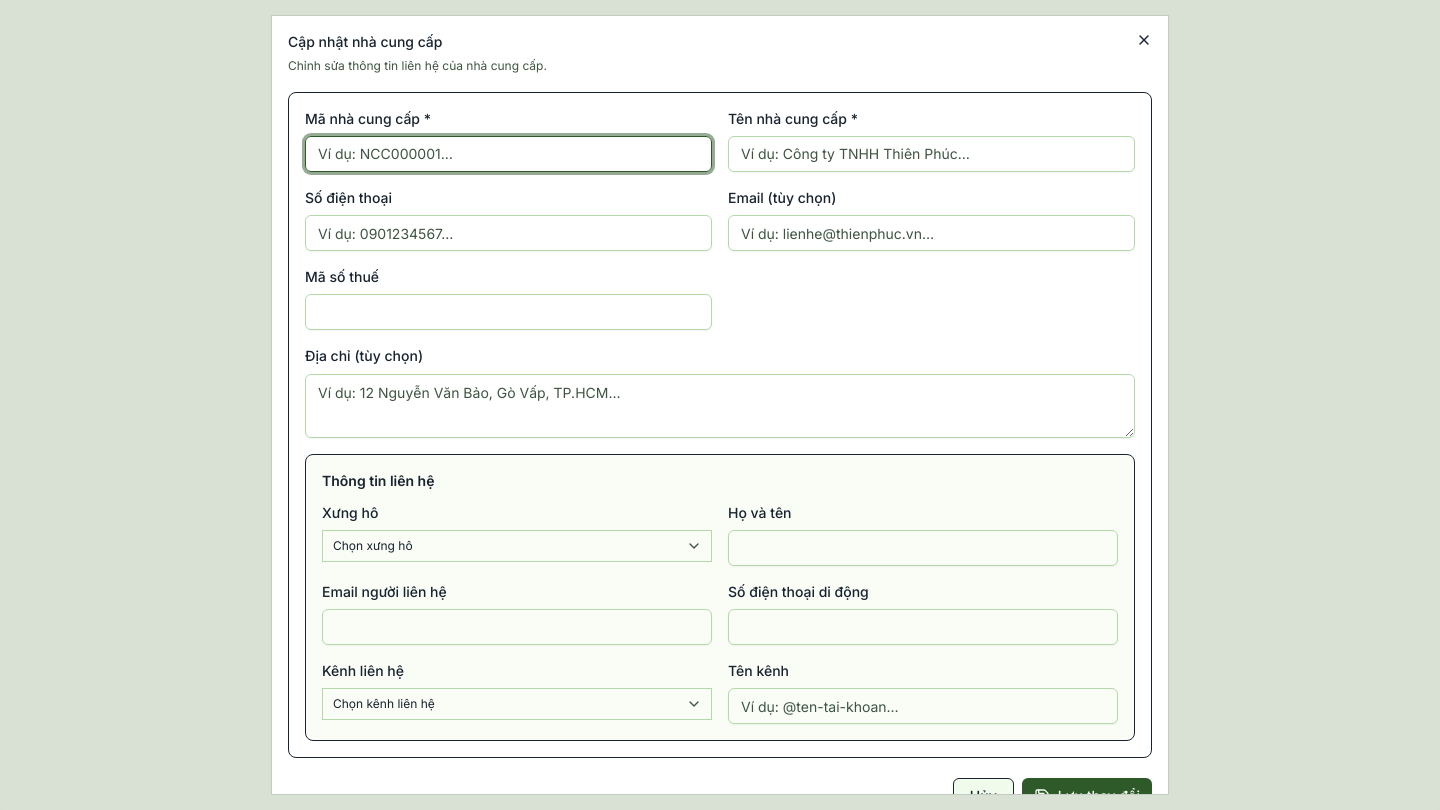
Test case: renders the Vietnamese inline code error instead of blocking submit with native validation
The width and height of the screenshot is (1440, 810).
Type "NCC000001" into the field labelled "Mã nhà cung cấp *" at coordinates (508, 154), box [305,136,712,172]
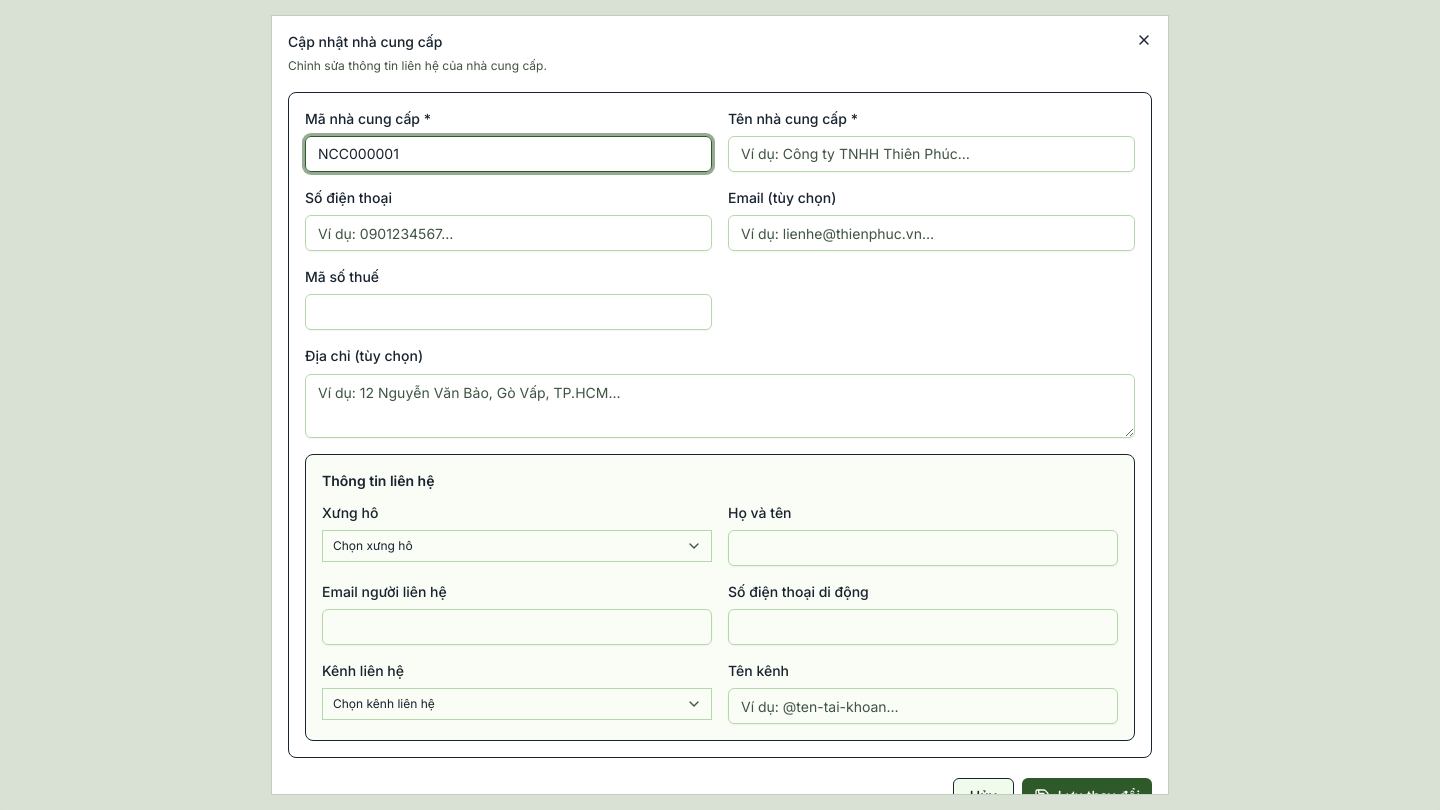
Type "Nhà cung cấp QA" into the field labelled "Tên nhà cung cấp *" at coordinates (932, 154), box [728,136,1135,172]
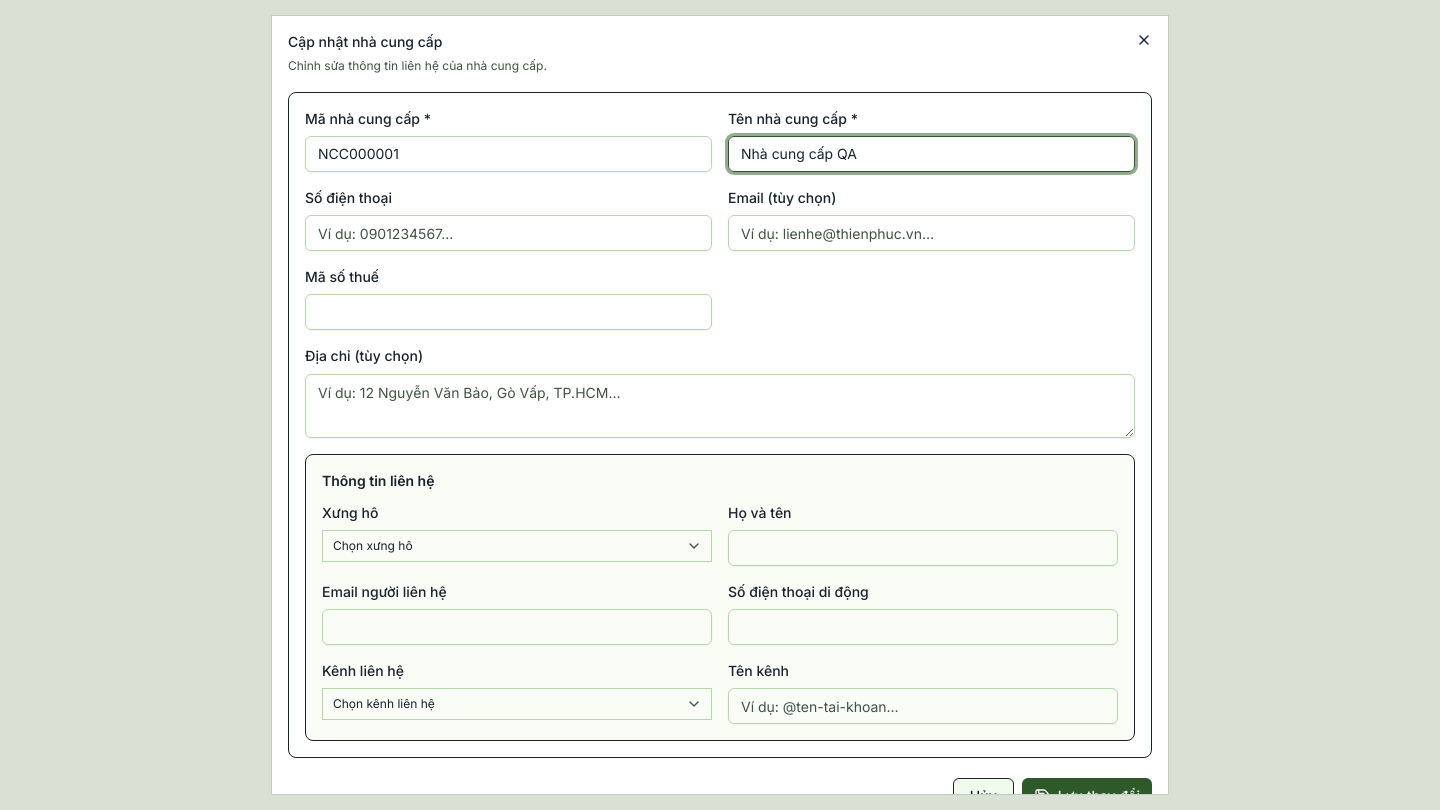
Clear the field labelled "Mã nhà cung cấp *" at coordinates (508, 154), box [305,136,712,172]
(page scrolled)
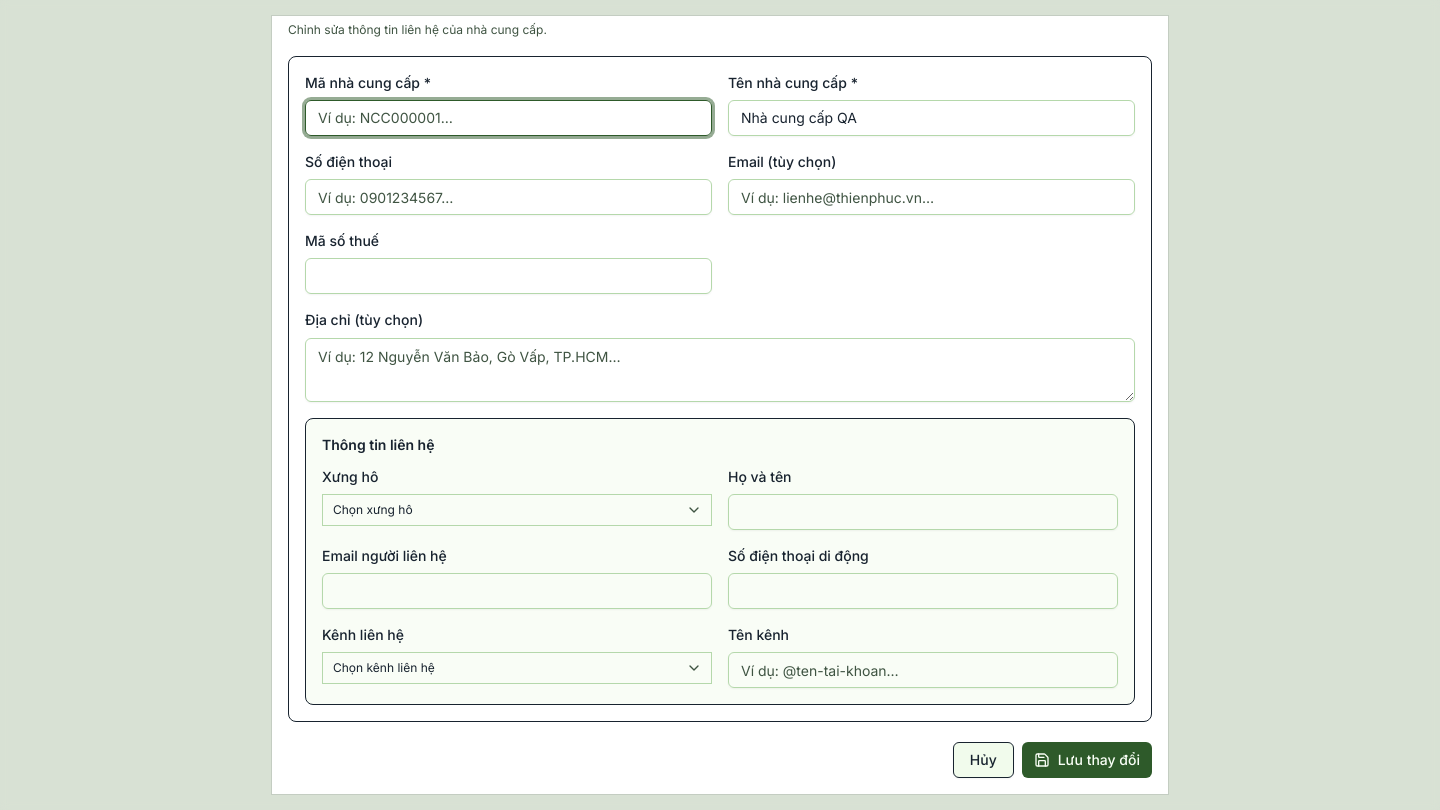
Click the button "Lưu thay đổi" at coordinates (1087, 760), box [1022,742,1152,778]
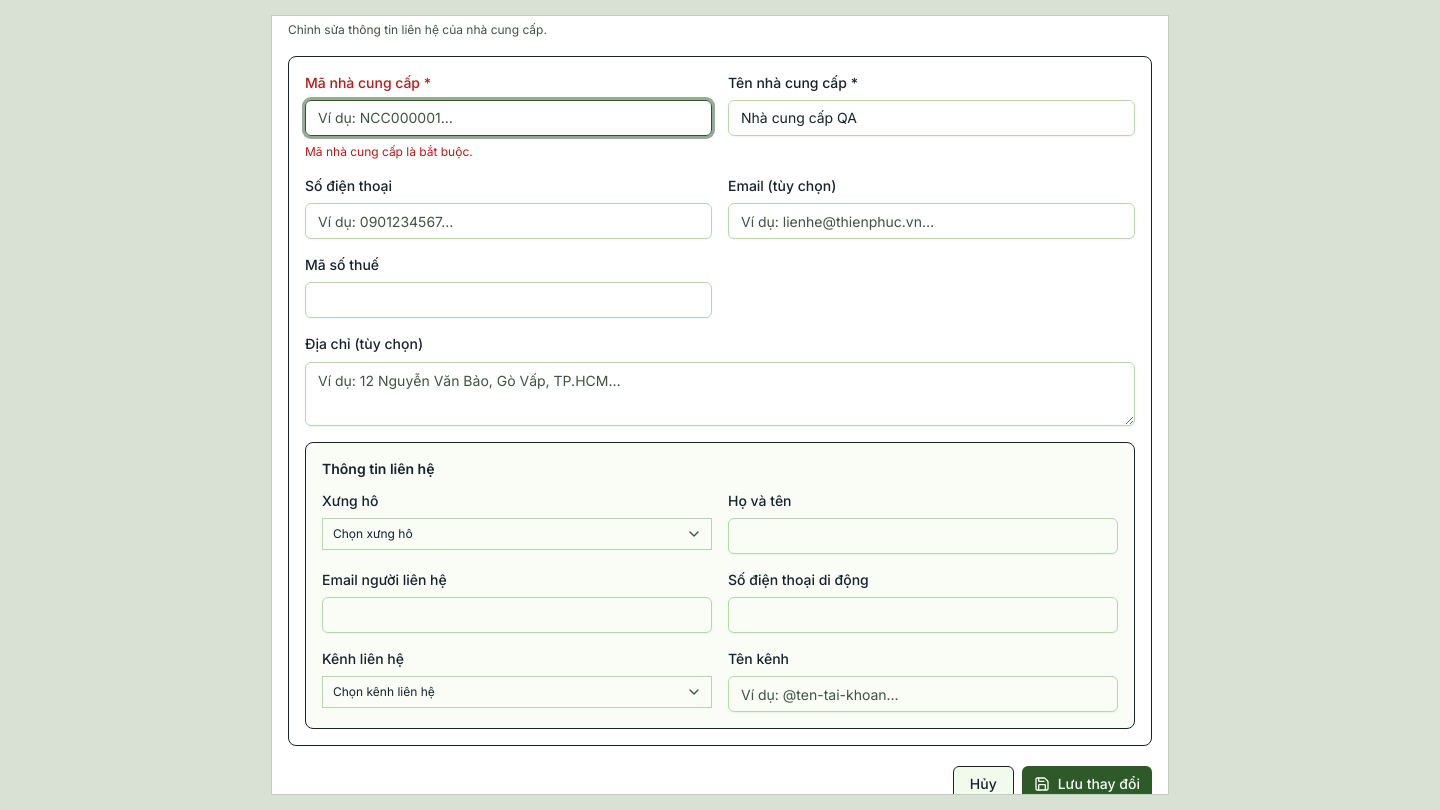
Expected: the text "Mã nhà cung cấp là bắt buộc." is shown, [305,144,473,159]
